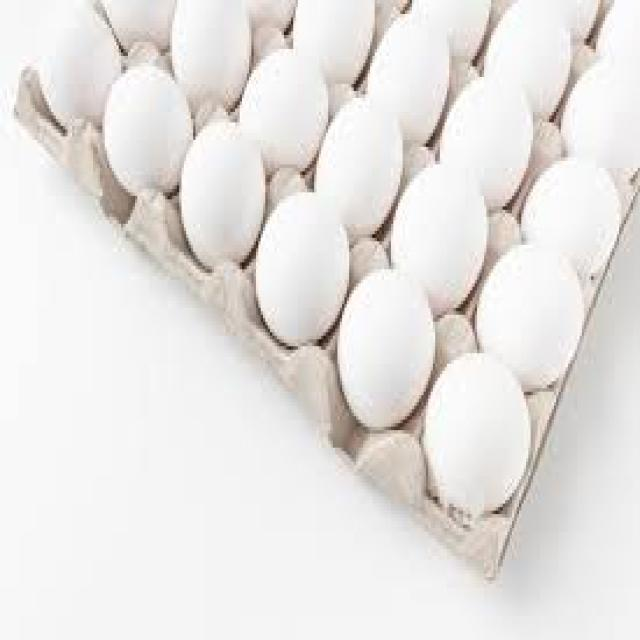White Egg: (342, 260, 435, 460), (418, 334, 515, 520), (252, 172, 344, 358), (478, 233, 585, 389), (226, 42, 346, 159), (388, 153, 481, 273), (319, 100, 412, 220), (184, 134, 266, 260)
